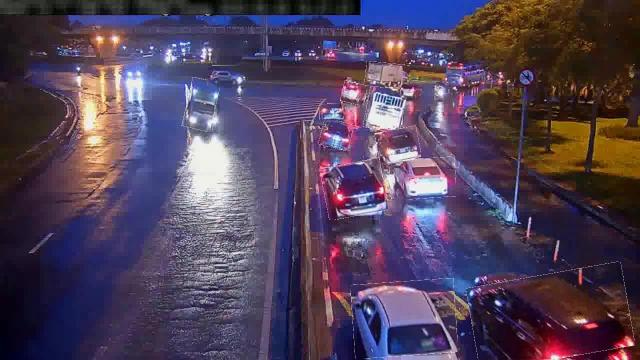Car: (470, 268, 632, 360), (352, 280, 456, 356), (322, 160, 386, 218), (390, 158, 456, 198), (376, 128, 420, 162), (320, 119, 352, 149), (208, 66, 245, 86), (342, 82, 366, 104), (320, 103, 348, 121), (401, 80, 425, 98), (435, 82, 457, 93)
Truck: (366, 84, 406, 132), (185, 77, 218, 130), (366, 62, 410, 88)
